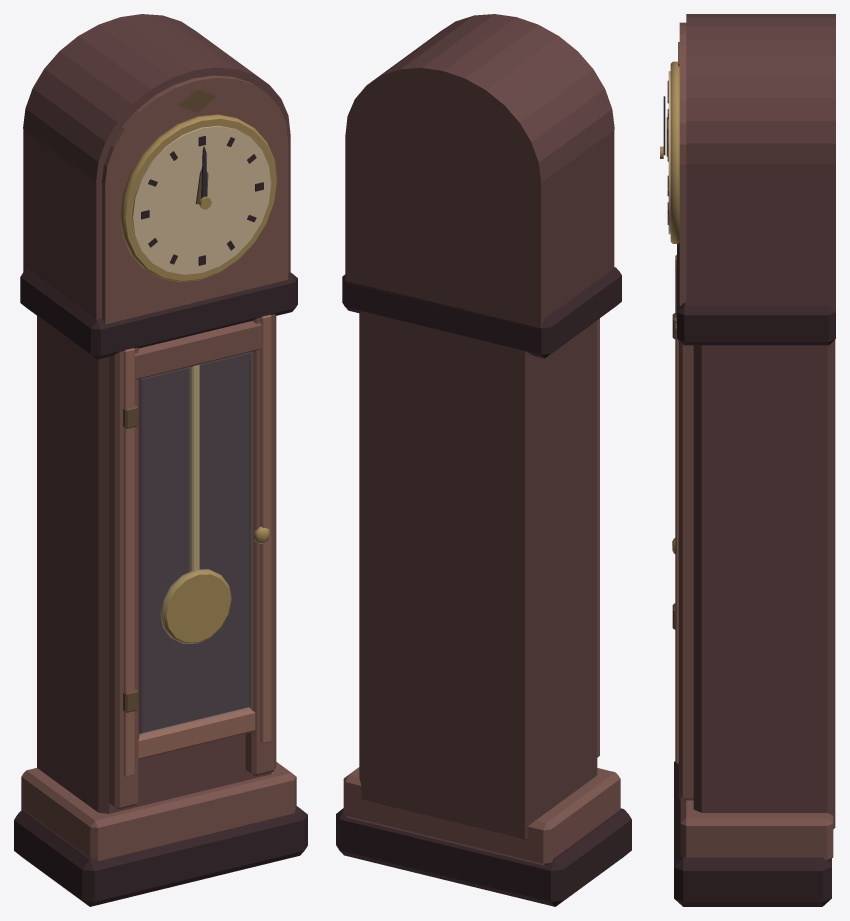
File: grandfather_clock.glb
The picture shows the model from 3 angles, left to right: view 1: azimuth 30°, elevation 25°; view 2: azimuth 150°, elevation 25°; view 3: azimuth 270°, elevation 25°; orthographic projection. The views are drawn at different scales.
Parts seen in each view (by area): view 1: grandfather_clock; view 2: grandfather_clock; view 3: grandfather_clock.
Boxes of the visible parts, x1=… form: grandfather_clock: x1=14, y1=14, x2=307, y2=906; grandfather_clock: x1=336, y1=14, x2=631, y2=906; grandfather_clock: x1=660, y1=14, x2=835, y2=906.
Bounding box in the file's own units: 0.598 × 2.05 × 0.394.
